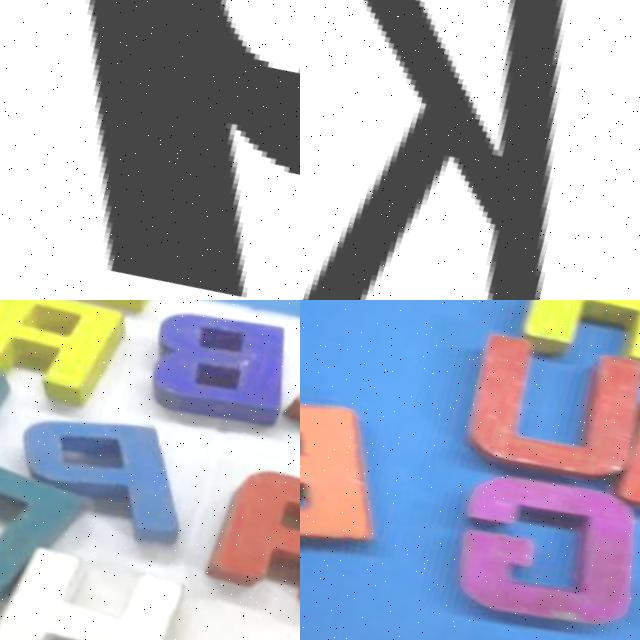A: (190, 453, 300, 640), (600, 370, 640, 579)
B: (132, 300, 298, 457)
D: (0, 437, 68, 618)
E: (300, 349, 393, 586)
G: (391, 448, 640, 640)
H: (0, 508, 227, 640)
K: (300, 0, 640, 300)
L: (7, 300, 189, 337)
P: (0, 386, 213, 565)
Q: (0, 0, 300, 300)
R: (0, 300, 140, 426), (498, 300, 640, 404)
U: (416, 303, 640, 521)
